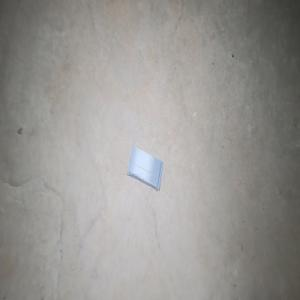PlasticPart: (126, 145, 163, 191)
